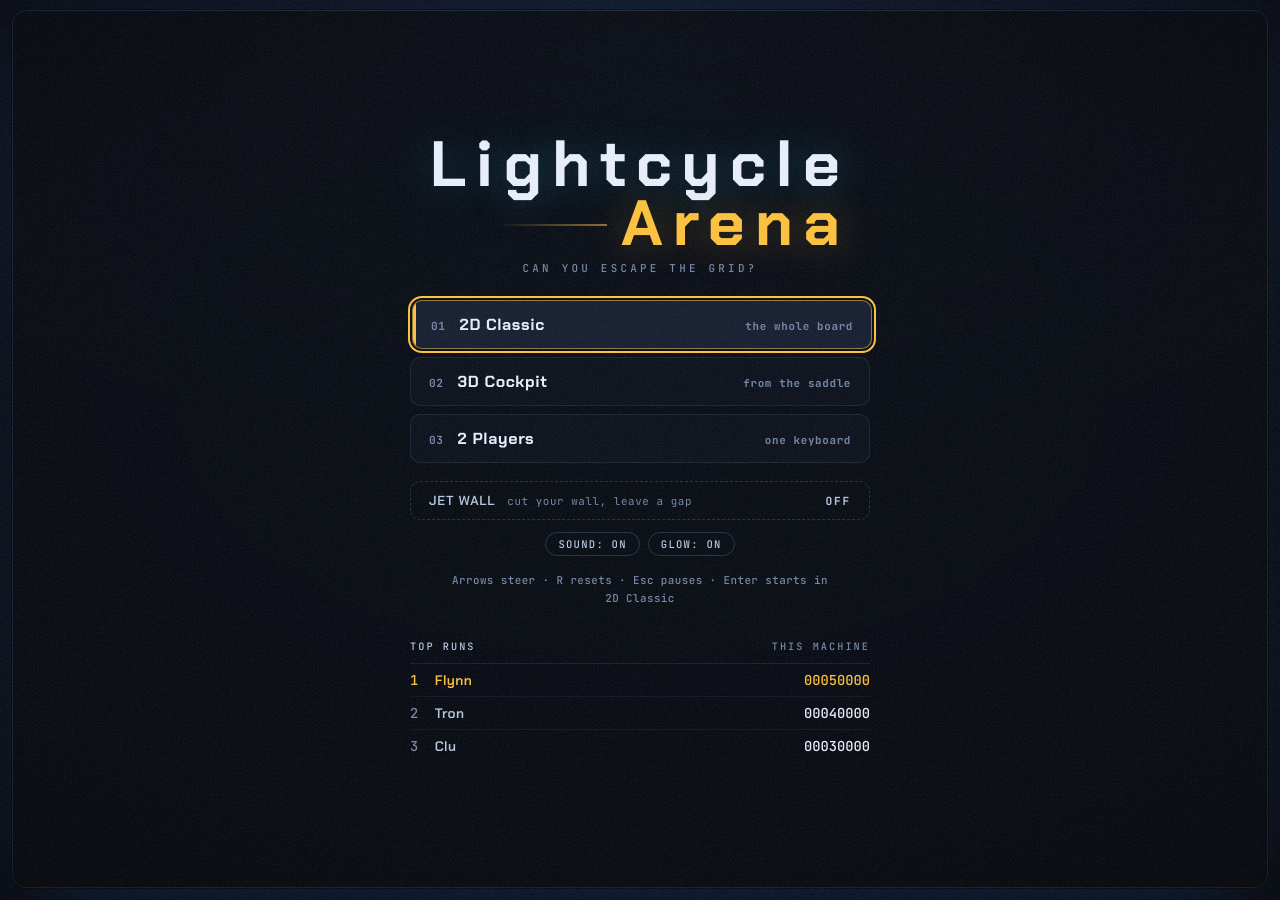
Test: GameCanvas › takes both riders down when they meet head-on
Click the button "03 2 Players one keyboard" at (496, 439), box [410,414,870,464]
Wait 4000 ms
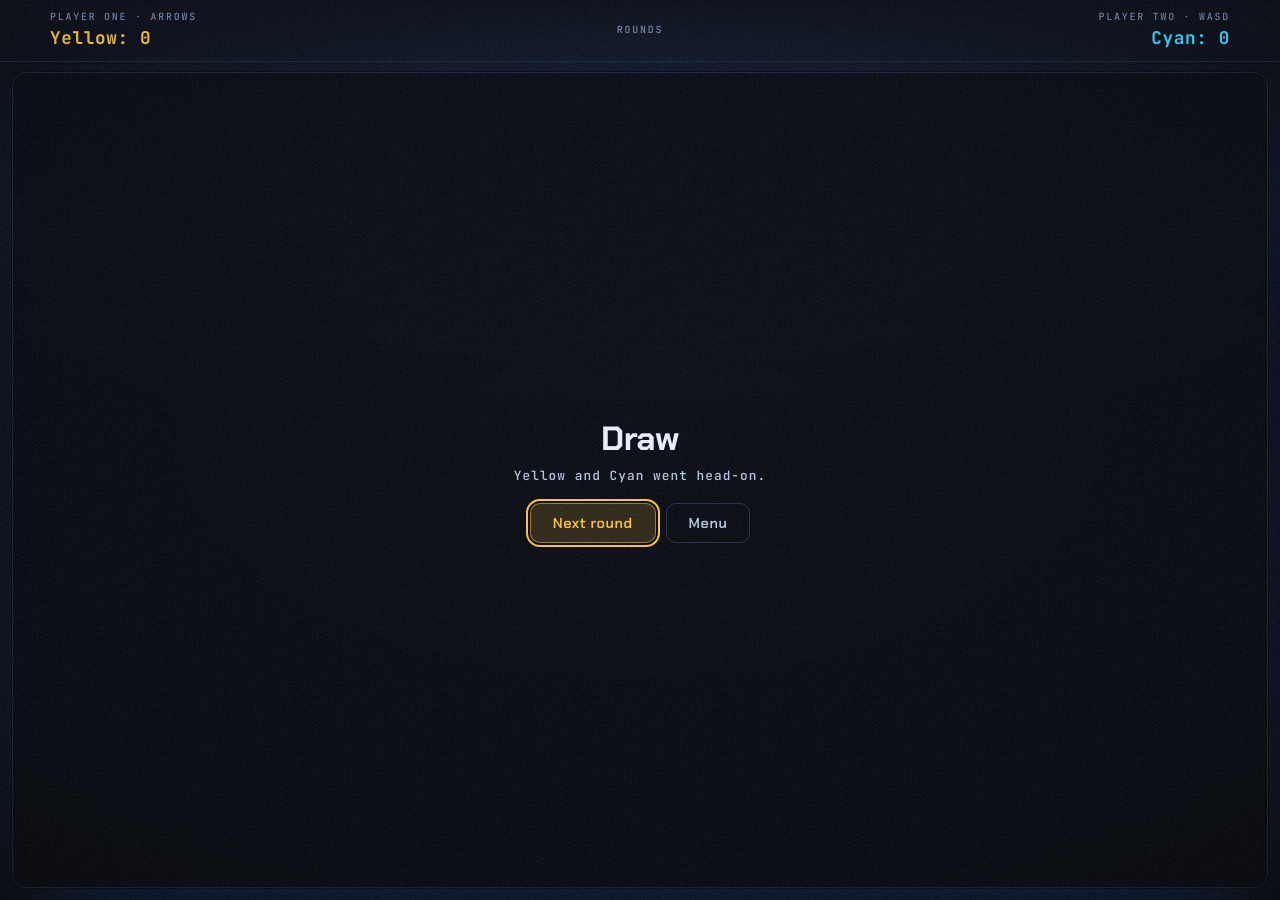
Expected: the dialog shows "Draw", [601,417,679,460]
Expected: the dialog shows "Yellow and Cyan went head-on.", [514,467,766,484]
Expected: the text "Yellow: 0" is shown, [50,26,151,49]
